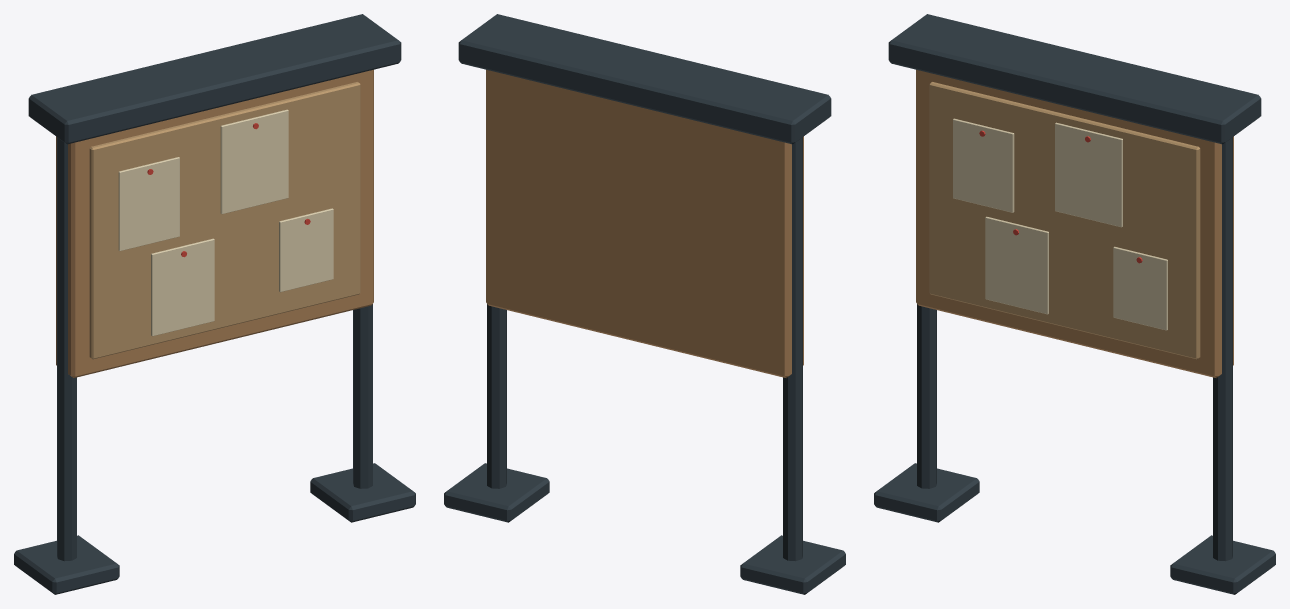
Rendered from Notice_Board.glb.
The picture shows the model from 3 angles, left to right: view 1: azimuth 30°, elevation 25°; view 2: azimuth 150°, elevation 25°; view 3: azimuth 330°, elevation 25°; orthographic projection.
Parts seen in each view (by area): view 1: Notice_Board; view 2: Notice_Board; view 3: Notice_Board.
Boxes of the visible parts, bbox=[...] form: Notice_Board: bbox=[14, 14, 415, 594]; Notice_Board: bbox=[444, 14, 845, 594]; Notice_Board: bbox=[874, 14, 1275, 594].
Size of the model in its own units: 1.62 by 2 by 0.32.
